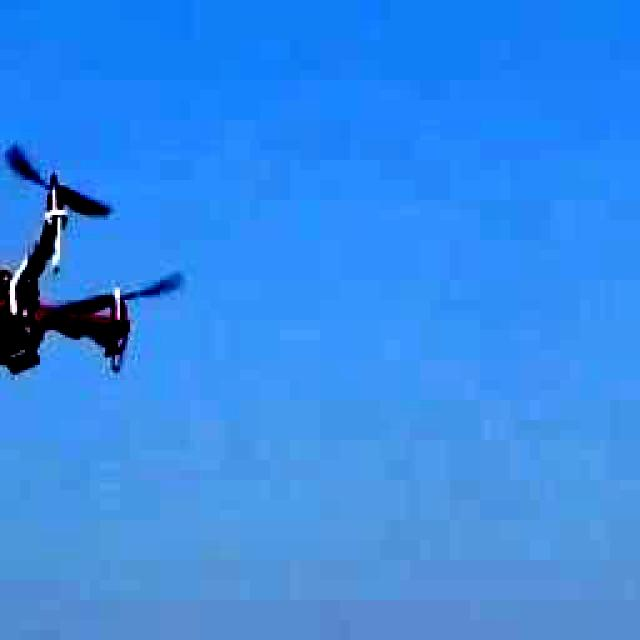bird: (0, 106, 185, 421)
